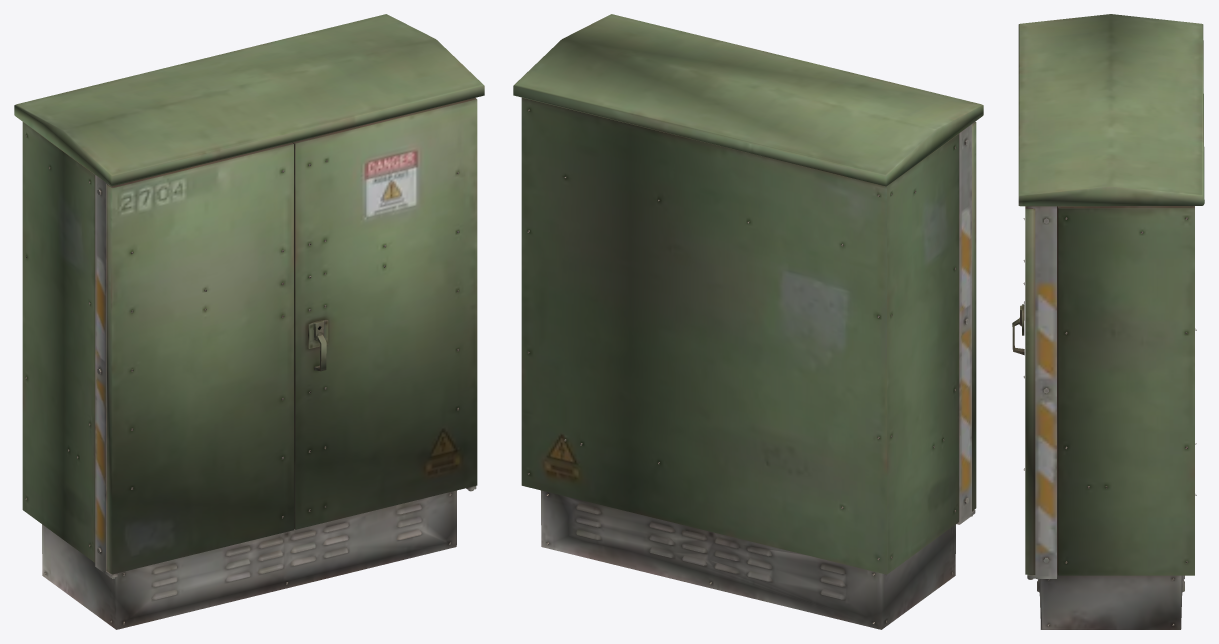
Rendered from utility_box_02.glb.
3 renders of one model, left to right at view 1: azimuth 30°, elevation 25°; view 2: azimuth 150°, elevation 25°; view 3: azimuth 270°, elevation 25°, orthographic. The views are drawn at different scales.
Parts seen in each view (by area): view 1: utility_box_02; view 2: utility_box_02; view 3: utility_box_02.
Boxes of the visible parts, <box> form: utility_box_02: <box>14,14,484,629</box>; utility_box_02: <box>513,14,983,629</box>; utility_box_02: <box>1012,14,1204,629</box>.
Size of the model in its own units: 0.9165 by 1.12 by 0.4312.
Materials: 1 (1 with a texture image).
